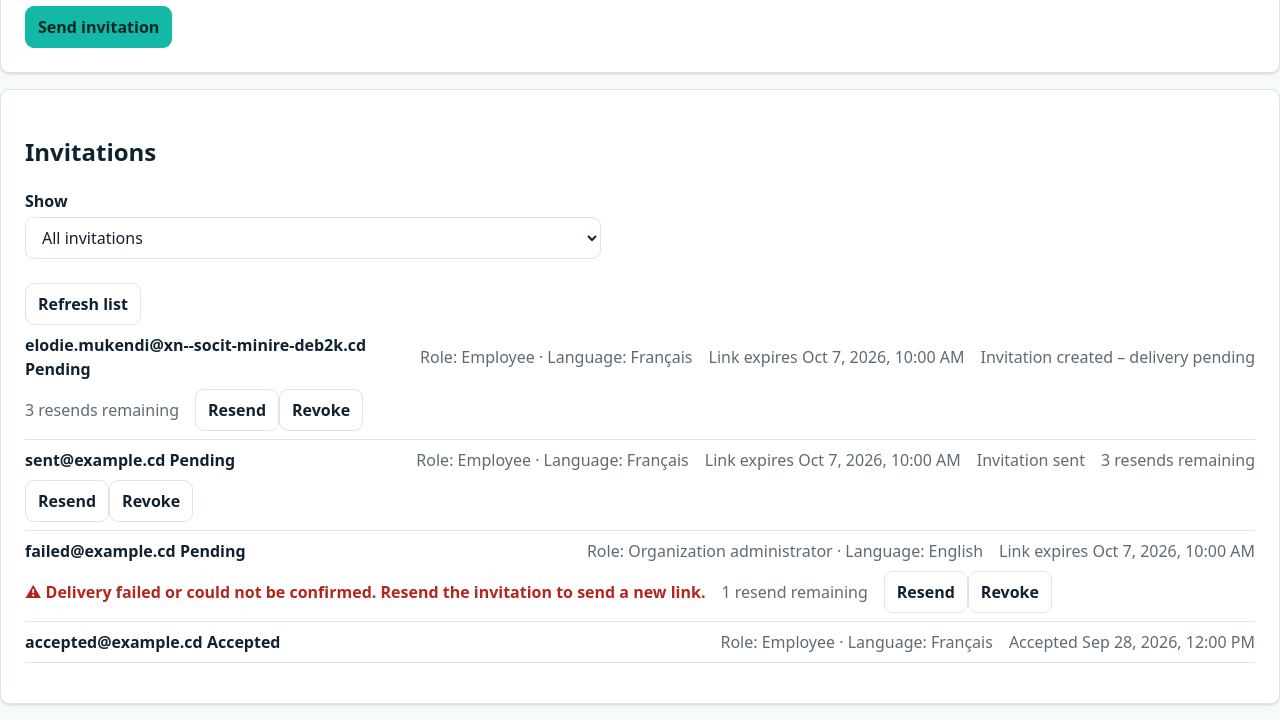
Test case: users and invitations (en) › shows the resend limit error next to the row and announces it once
(page scrolled)
Expected: the list with test id "invitation-list" is shown, [25,325,1255,663]
Click the button "Resend" below "sent@example.cd". click: (67,501)
box: [25,480,109,522]
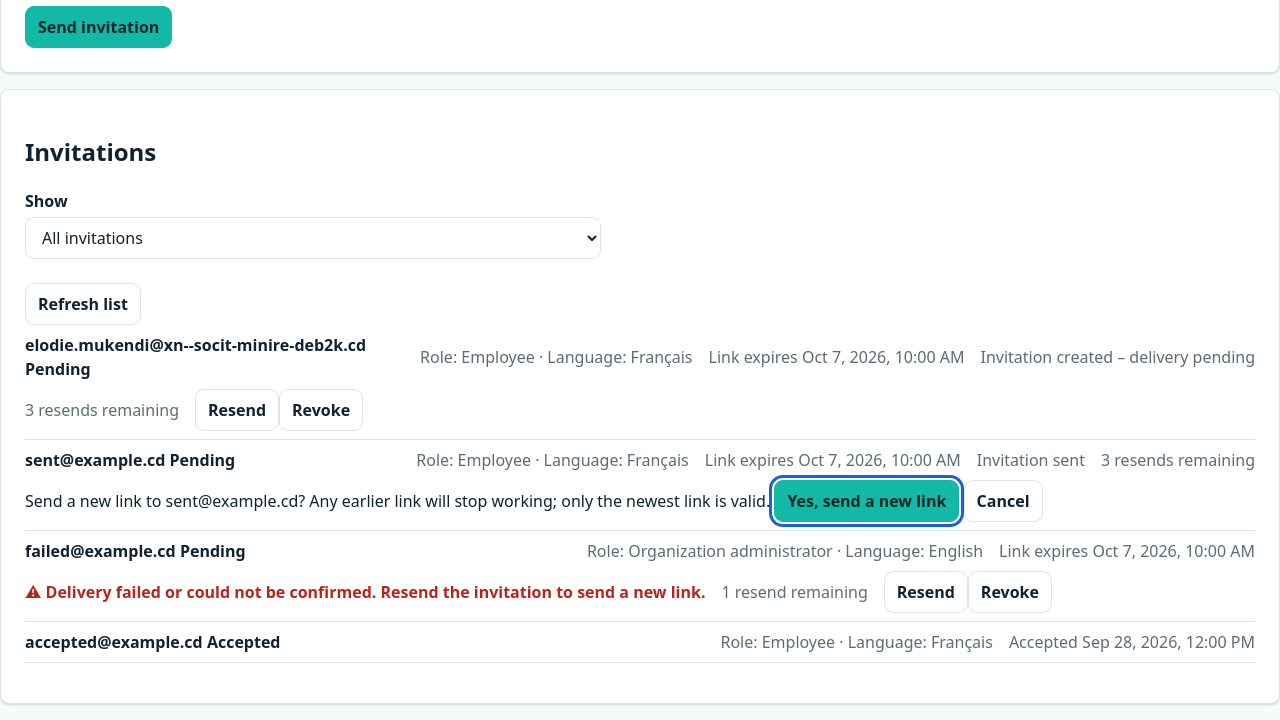
Click the button "Yes, send a new link". click: (867,501)
box: [774,480,959,522]
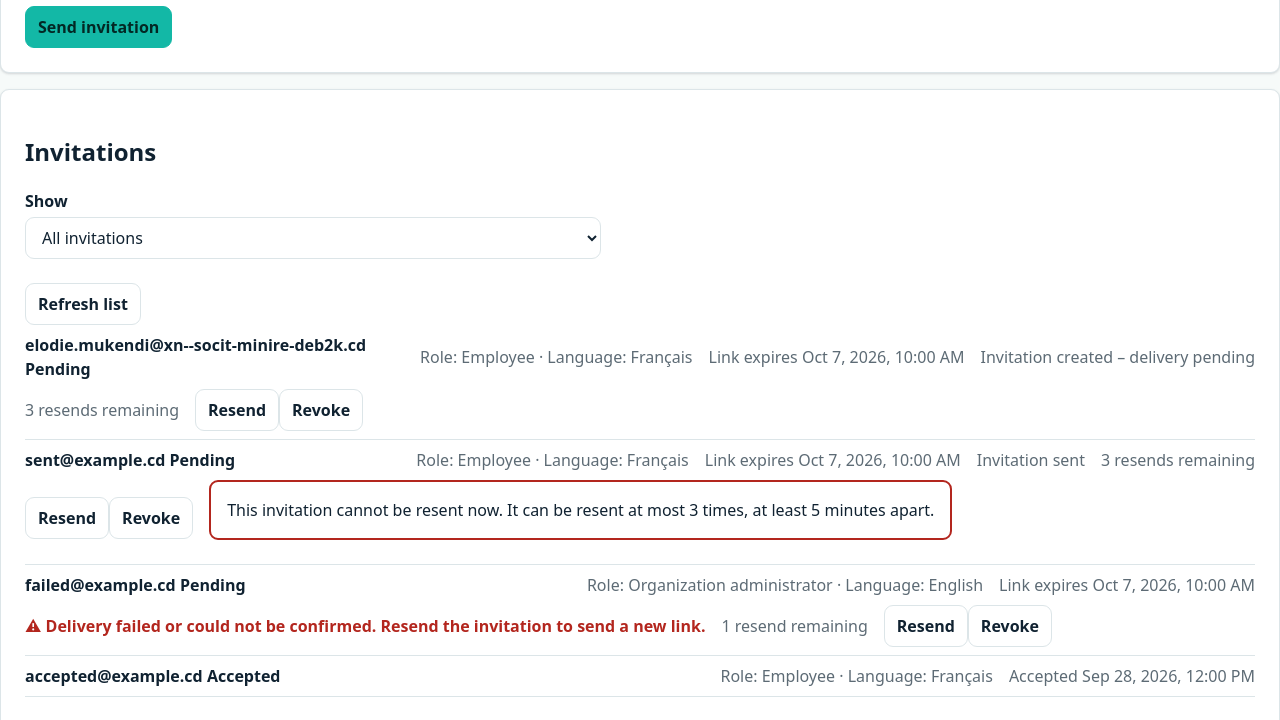
Expected: the text with test id "invitation-error" shows "This invitation cannot be resent now. It can be resent at most 3 times, at least 5 minutes apart.", [227,499,934,521]
